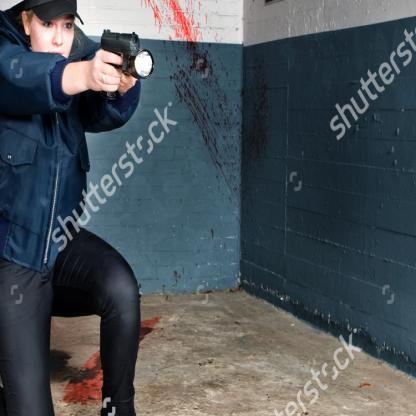gun: (90, 19, 157, 108)
